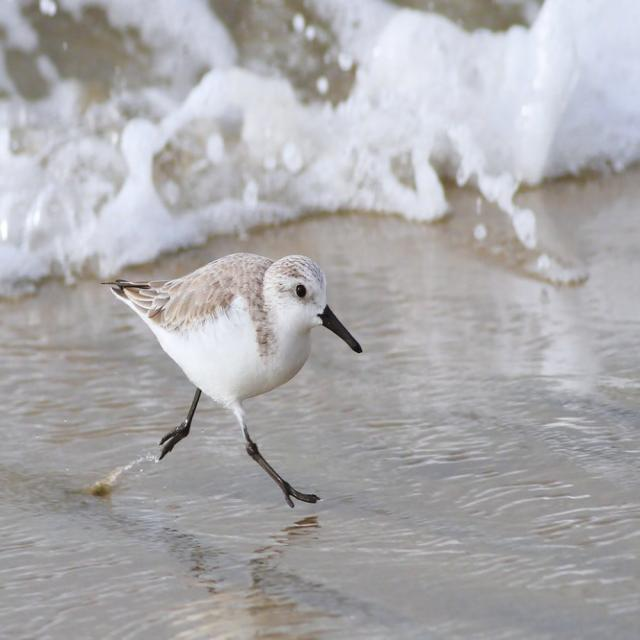Sandpiper: (90, 256, 358, 526)
